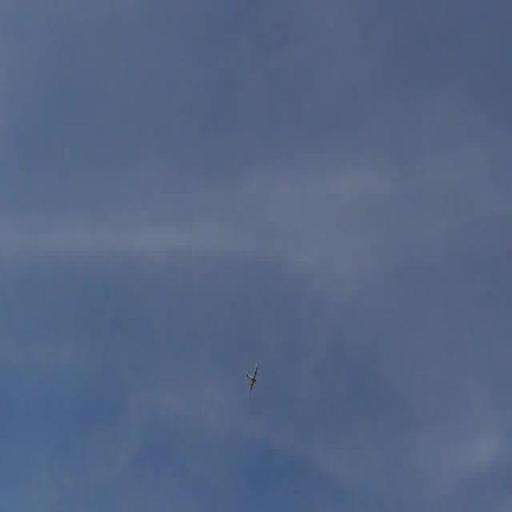uav: (244, 358, 264, 400)
